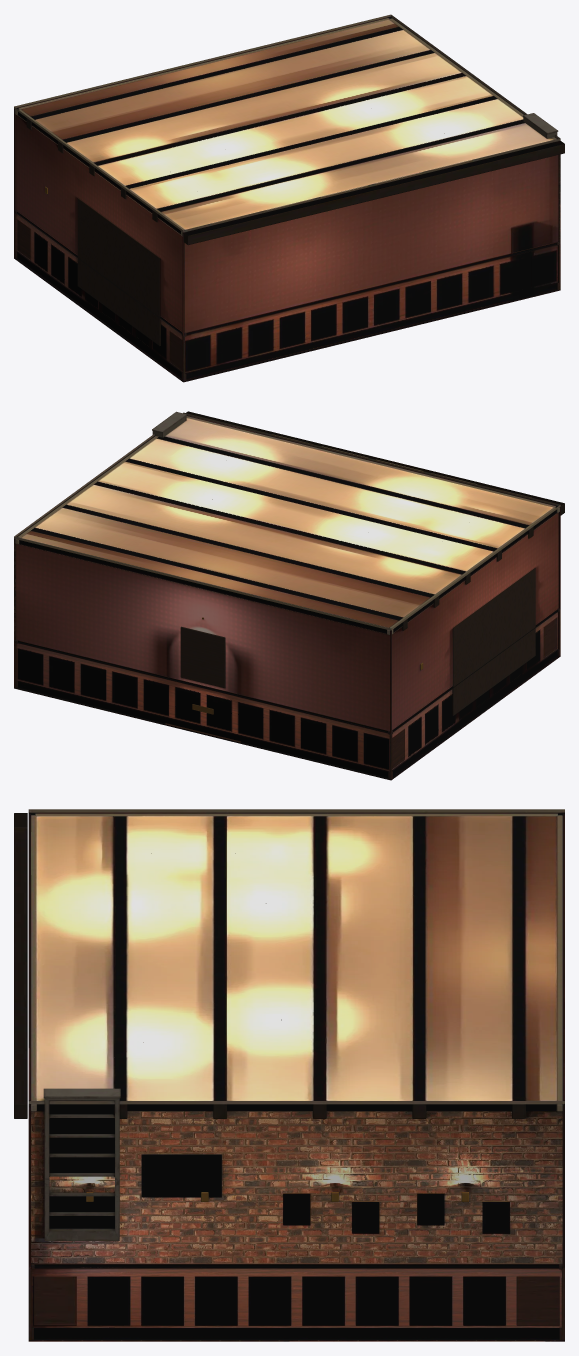
File: pub.glb
3 renders of one model, top to bottom at view 1: azimuth 30°, elevation 25°; view 2: azimuth 150°, elevation 25°; view 3: azimuth 270°, elevation 25°, orthographic. The views are drawn at different scales.
Parts seen in each view (by area): view 1: bake_ceil, bake_wallB, bake_wallL, bake_bar, bake_wallF, bake_wallR, bake_floor, bake_props; view 2: bake_ceil, bake_wallF, bake_wallL, bake_bar, bake_board, bake_wallB, bake_wallR, bake_floor, bake_props; view 3: bake_ceil, bake_wallR, bake_wallB, bake_props, bake_wallF, bake_wallL, bake_floor.
Boxes of the visible parts, x1,y1,x2,y2 form: bake_ceil: (14, 14, 564, 245); bake_wallB: (169, 139, 558, 380); bake_wallL: (16, 109, 187, 381); bake_bar: (77, 198, 160, 345); bake_wallF: (14, 16, 391, 259); bake_wallR: (389, 17, 560, 290); bake_floor: (14, 258, 560, 382); bake_props: (45, 113, 558, 194); bake_ceil: (14, 411, 564, 630); bake_wallF: (16, 537, 404, 779); bake_wallL: (387, 507, 558, 779); bake_bar: (452, 568, 535, 715); bake_board: (180, 626, 225, 714); bake_wallB: (186, 415, 560, 657); bake_wallR: (14, 435, 158, 688); bake_floor: (14, 656, 560, 780); bake_props: (152, 411, 423, 670); bake_ceil: (14, 809, 564, 1118); bake_wallR: (31, 1104, 562, 1339); bake_wallB: (28, 812, 76, 1339); bake_props: (43, 853, 469, 1240); bake_wallF: (516, 812, 564, 1339); bake_wallL: (31, 812, 562, 816); bake_floor: (28, 1340, 564, 1341).
Size of the model in its own units: 9.06 by 3.55 by 7.19.
11 materials, 11 textured.
